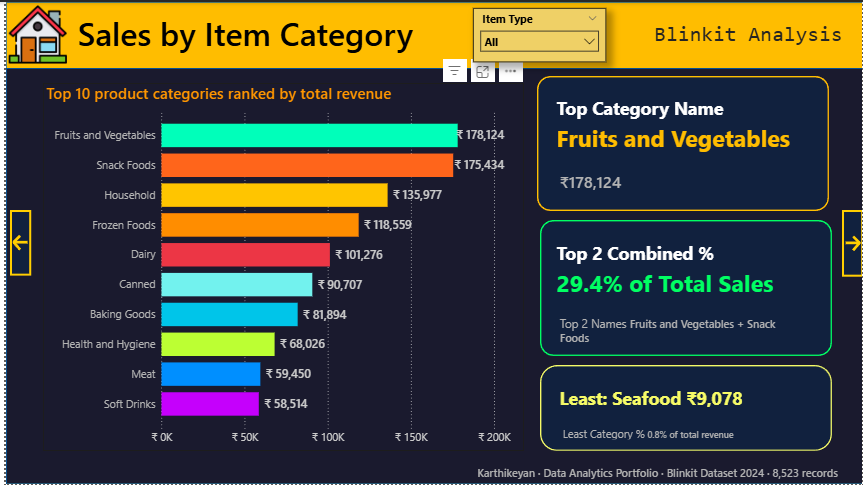

This screenshot's page, from the dashboard's own definition file:
{"tool":"powerbi","page":{"name":"Category Sales ","canvas":[1280,720],"ordinal":2},"visuals":[{"type":"shape","box":[0,0,1280,720.6],"z":0},{"type":"shape","box":[0,98.6,1280.2,621.4],"z":1000},{"type":"textbox","box":[18.1,9.1,679.2,89.1],"z":2000},{"type":"textbox","box":[963.5,23.9,316.7,49.3],"z":3000},{"type":"clusteredBarChart","title":"Top 10 product categories ranked by total revenue","fields":{"Y":["Sum(blinkit_cleaned.Sales)"],"Category":["blinkit_cleaned.Item Type"]},"box":[55.8,120.8,718.5,549.4],"z":4000},{"type":"shape","box":[797.7,325.6,436.2,203.2],"z":5000},{"type":"shape","box":[797.7,542.2,436.2,128.5],"z":6000},{"type":"shape","box":[793.2,110.5,436.2,201.7],"z":7000},{"type":"cardVisual","fields":{"Data":["blinkit_cleaned.Top Category Name"]},"box":[793.2,110.5,436.2,201.7],"z":8000},{"type":"cardVisual","fields":{"Data":["blinkit_cleaned.Top 2 Combined %"]},"box":[793.2,325.6,436.2,203.2],"z":9000},{"type":"cardVisual","fields":{"Data":["blinkit_cleaned.Least Category Label"]},"box":[797,541.9,431.7,128.3],"z":10000},{"type":"slicer","fields":{"Values":["blinkit_cleaned.Item Type"]},"box":[697.6,9,198.7,80.7],"z":11000},{"type":"textbox","box":[666.1,687.1,613.9,32.9],"z":12000},{"type":"actionButton","box":[1248.3,310.9,31.7,99.6],"z":13000},{"type":"actionButton","box":[6,310.9,31.7,98.1],"z":14000},{"type":"image","box":[0,4.5,95.1,87.5],"z":15000}]}

Visuals, with their boxes in screenshot pixels (x1, y1, x2, y2), scaled from the page's 1280x720 canvas onto the 863x485 screenshot:
shape: box(0, 0, 862, 484)
shape: box(0, 66, 862, 484)
textbox: box(12, 6, 470, 66)
textbox: box(650, 16, 862, 49)
"Top 10 product categories ranked by total revenue" clusteredBarChart: box(38, 81, 522, 451)
shape: box(538, 219, 832, 356)
shape: box(538, 365, 832, 452)
shape: box(535, 74, 829, 210)
cardVisual - blinkit_cleaned.Top Category Name: box(535, 74, 829, 210)
cardVisual - blinkit_cleaned.Top 2 Combined %: box(535, 219, 829, 356)
cardVisual - blinkit_cleaned.Least Category Label: box(537, 365, 828, 451)
slicer - blinkit_cleaned.Item Type: box(470, 6, 604, 60)
textbox: box(449, 463, 862, 484)
actionButton: box(842, 209, 862, 277)
actionButton: box(4, 209, 25, 276)
image: box(0, 3, 64, 62)
